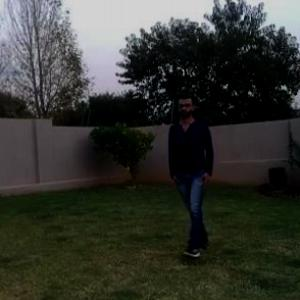follow: (173, 96, 214, 236)
